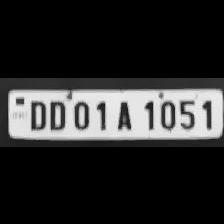0: (68, 97, 92, 130), (156, 97, 176, 130)
1: (91, 96, 111, 132), (137, 97, 157, 131), (197, 97, 217, 130)
5: (176, 96, 196, 130)
A: (112, 96, 136, 132)
D: (44, 97, 68, 131), (25, 97, 47, 131)
